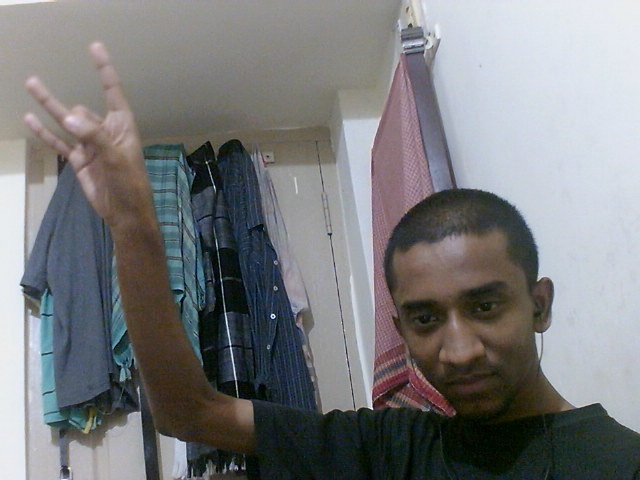hand: (16, 38, 167, 239)
